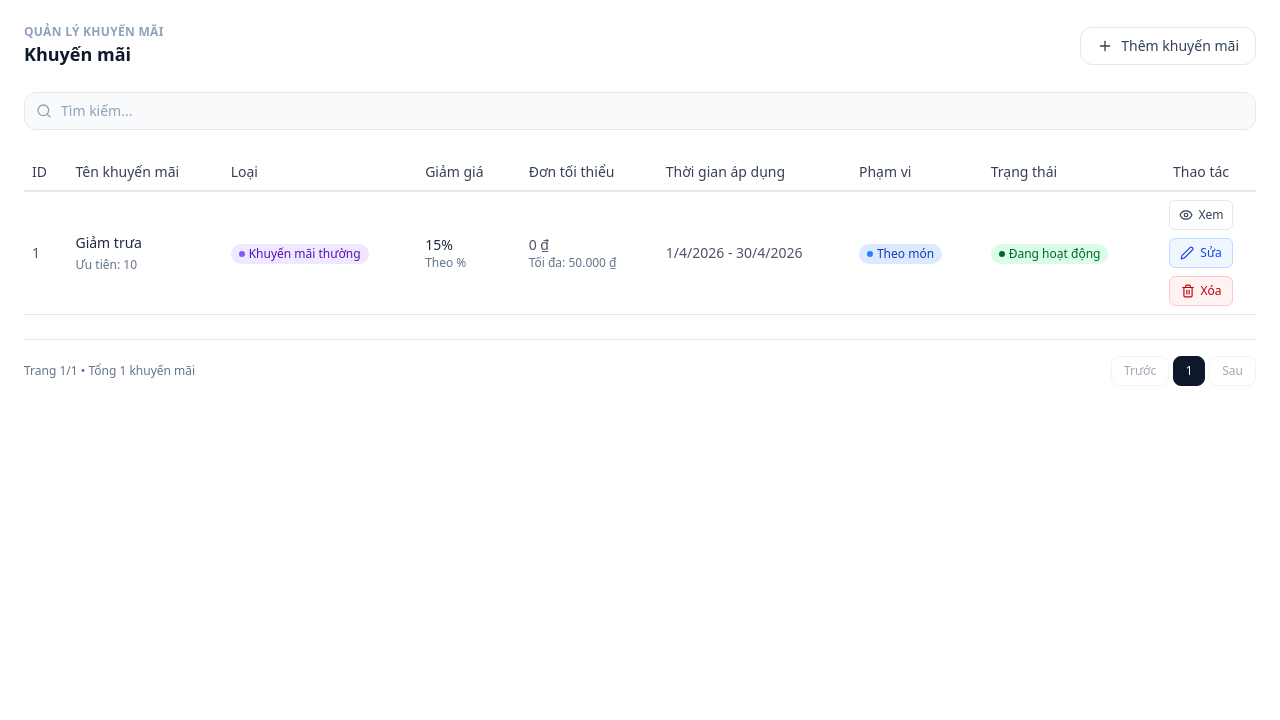
Scenario: Integration: Tenant Promotion Page Flow › deletes promotion after confirmation
The image size is (1280, 720).
Check: the text "Giảm trưa" is shown, box left=75, top=233, right=142, bottom=252
Click the button "Xóa": (1201, 291) left=1169, top=276, right=1233, bottom=306
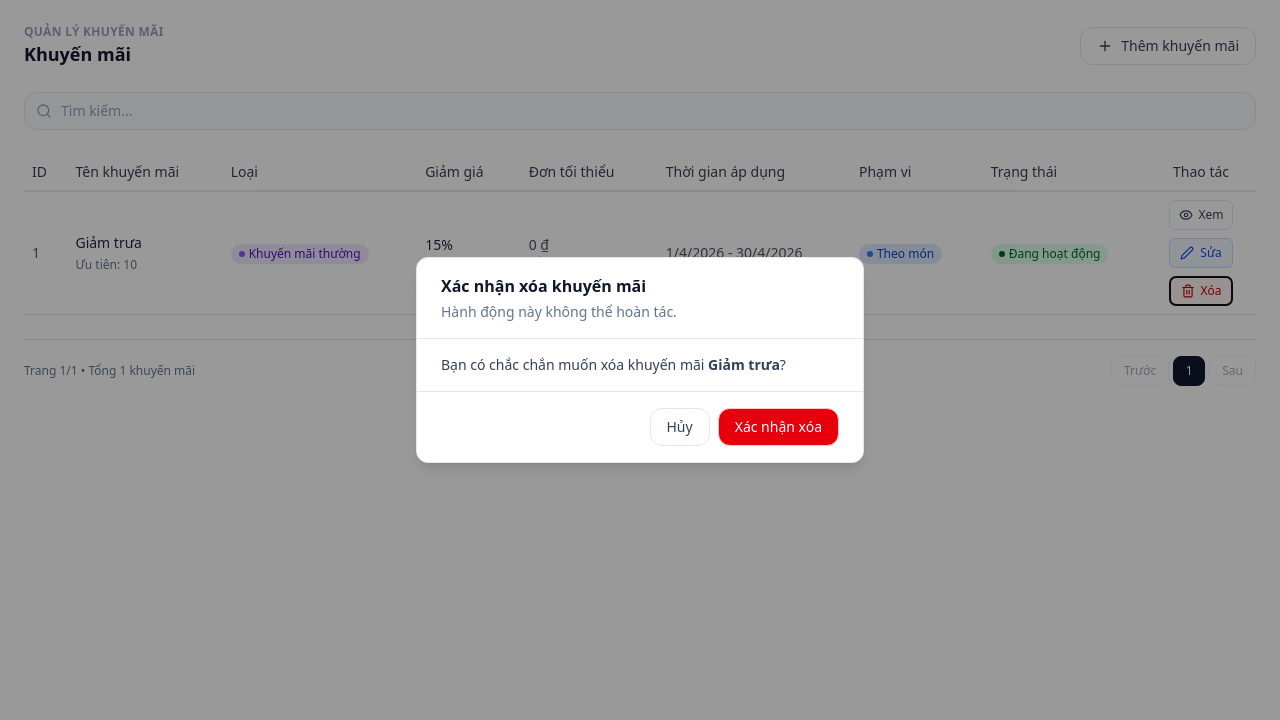
Check: the heading "Xác nhận xóa khuyến mãi" is shown, box left=441, top=275, right=646, bottom=297
Click the button "Xác nhận xóa": (778, 427) left=718, top=408, right=839, bottom=446
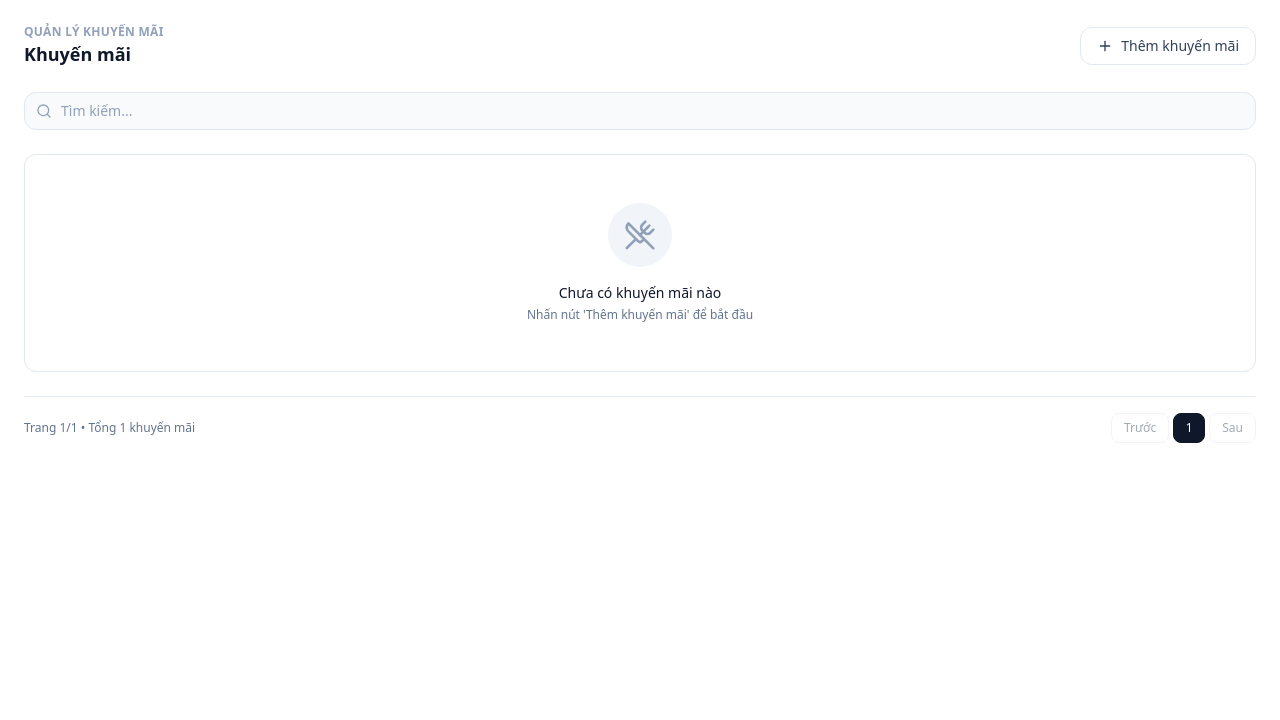
Check: the text "Giảm trưa" is gone
